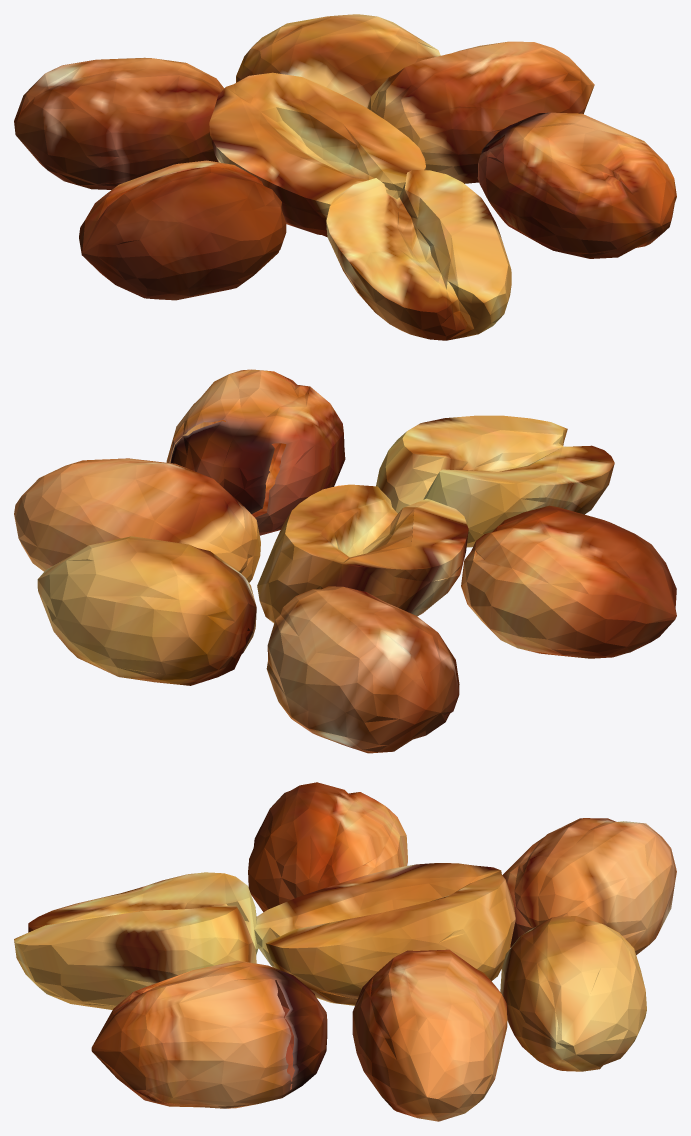
The model's file is BenenutsC.fbx.
3 views of the same model, one above another, from view 1: azimuth 30°, elevation 25°; view 2: azimuth 150°, elevation 25°; view 3: azimuth 270°, elevation 25° (orthographic). The views are drawn at different scales.
Parts seen in each view (by area): view 1: Mesh1.0; view 2: Mesh1.0; view 3: Mesh1.0.
Boxes of the visible parts, x1,y1,x2,y2 form: Mesh1.0: (14,14,676,340); Mesh1.0: (14,369,676,753); Mesh1.0: (14,782,676,1121).
Size of the model in its own units: 190 by 38.59 by 187.
Materials: 1 (1 with a texture image).
